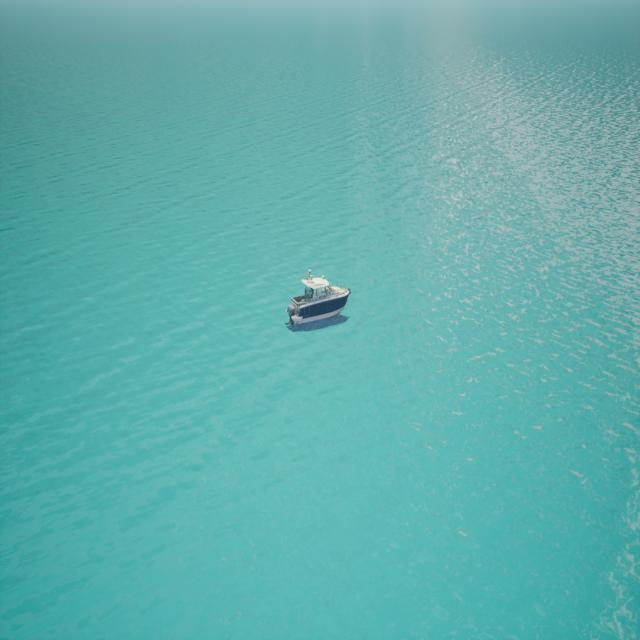ship: (286, 269, 349, 331)
